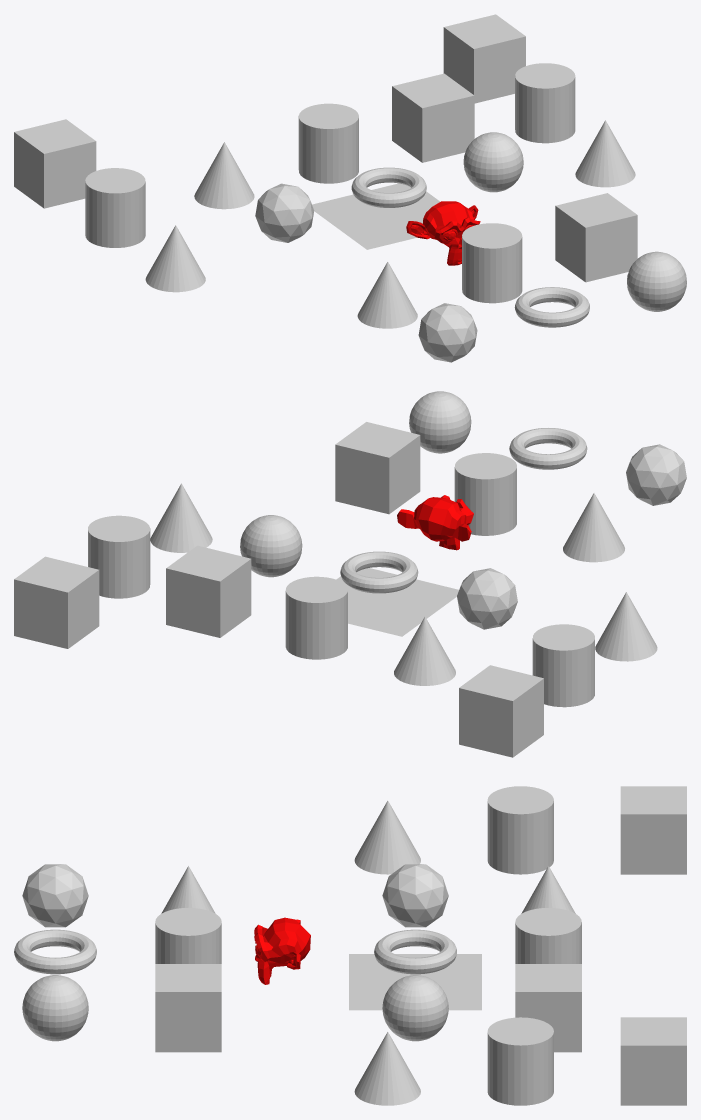
3 renders of one model, top to bottom at view 1: azimuth 30°, elevation 25°; view 2: azimuth 150°, elevation 25°; view 3: azimuth 270°, elevation 25°, orthographic. The views are drawn at different scales.
Parts seen in each view (by area): view 1: Cube.001, Cube, Cube.002, Cube.003, Cylinder.003, Cylinder.001, Cylinder, Cylinder.002, Plane, Sphere, Sphere.001, Icosphere.001 (+8 smaller); view 2: Cube.001, Cube, Cube.003, Cube.002, Cylinder, Cylinder.003, Cylinder.002, Cylinder.001, Plane, Sphere, Sphere.001, Icosphere (+8 smaller); view 3: Cube.001, Cube.002, Cube.003, Cylinder.003, Cylinder.002, Cube, Plane, Cylinder.001, Cylinder, Sphere.001, Sphere, Icosphere (+8 smaller).
Part boxes in pixels (x1=…): Cube.001: x1=555, y1=193, x2=637, y2=282; Cube: x1=392, y1=73, x2=474, y2=162; Cube.002: x1=14, y1=119, x2=96, y2=208; Cube.003: x1=443, y1=14, x2=525, y2=103; Cylinder.003: x1=515, y1=63, x2=575, y2=143; Cylinder.001: x1=462, y1=223, x2=522, y2=303; Cylinder: x1=298, y1=103, x2=358, y2=183; Cylinder.002: x1=85, y1=168, x2=145, y2=247; Plane: x1=312, y1=183, x2=440, y2=249; Sphere: x1=463, y1=132, x2=523, y2=192; Sphere.001: x1=627, y1=251, x2=686, y2=311; Icosphere.001: x1=418, y1=303, x2=477, y2=362; Cube.001: x1=335, y1=422, x2=420, y2=514; Cube: x1=166, y1=545, x2=251, y2=637; Cube.003: x1=14, y1=556, x2=99, y2=648; Cube.002: x1=459, y1=665, x2=543, y2=757; Cylinder: x1=285, y1=576, x2=347, y2=659; Cylinder.003: x1=88, y1=515, x2=150, y2=598; Cylinder.002: x1=532, y1=624, x2=594, y2=707; Cylinder.001: x1=454, y1=453, x2=516, y2=535; Plane: x1=336, y1=568, x2=458, y2=636; Sphere: x1=240, y1=515, x2=302, y2=577; Sphere.001: x1=409, y1=391, x2=471, y2=453; Icosphere: x1=457, y1=568, x2=517, y2=629; Cube.001: x1=155, y1=964, x2=221, y2=1052; Cube.002: x1=620, y1=786, x2=686, y2=874; Cube.003: x1=620, y1=1017, x2=686, y2=1105; Cylinder.003: x1=487, y1=1017, x2=553, y2=1105; Cylinder.002: x1=487, y1=786, x2=553, y2=874; Cube: x1=515, y1=964, x2=581, y2=1052; Plane: x1=349, y1=954, x2=481, y2=1010; Cylinder.001: x1=155, y1=908, x2=221, y2=963; Cylinder: x1=515, y1=908, x2=581, y2=963; Sphere.001: x1=22, y1=975, x2=88, y2=1041; Sphere: x1=382, y1=975, x2=448, y2=1041; Icosphere: x1=382, y1=864, x2=448, y2=927.
Bounding box in the file's own units: 18.46 × 2 × 20.25.
